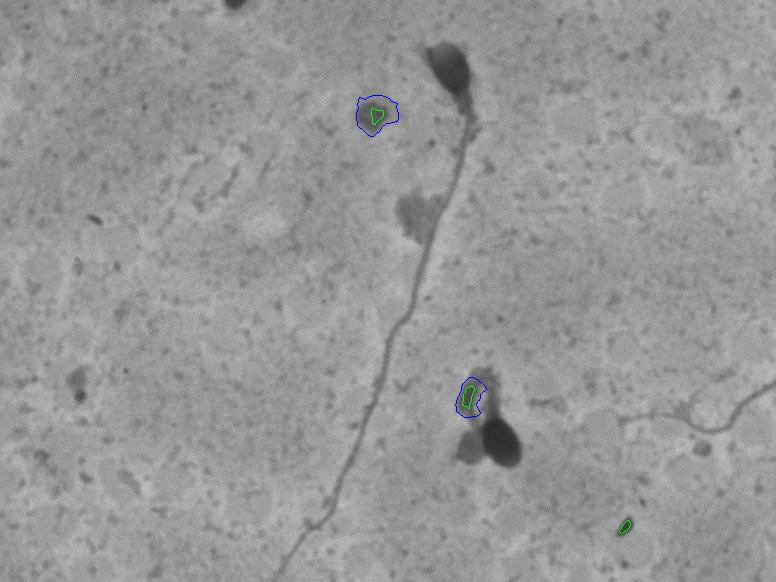Abnormal: (443, 353, 556, 487)
Normal: (270, 13, 510, 571)
